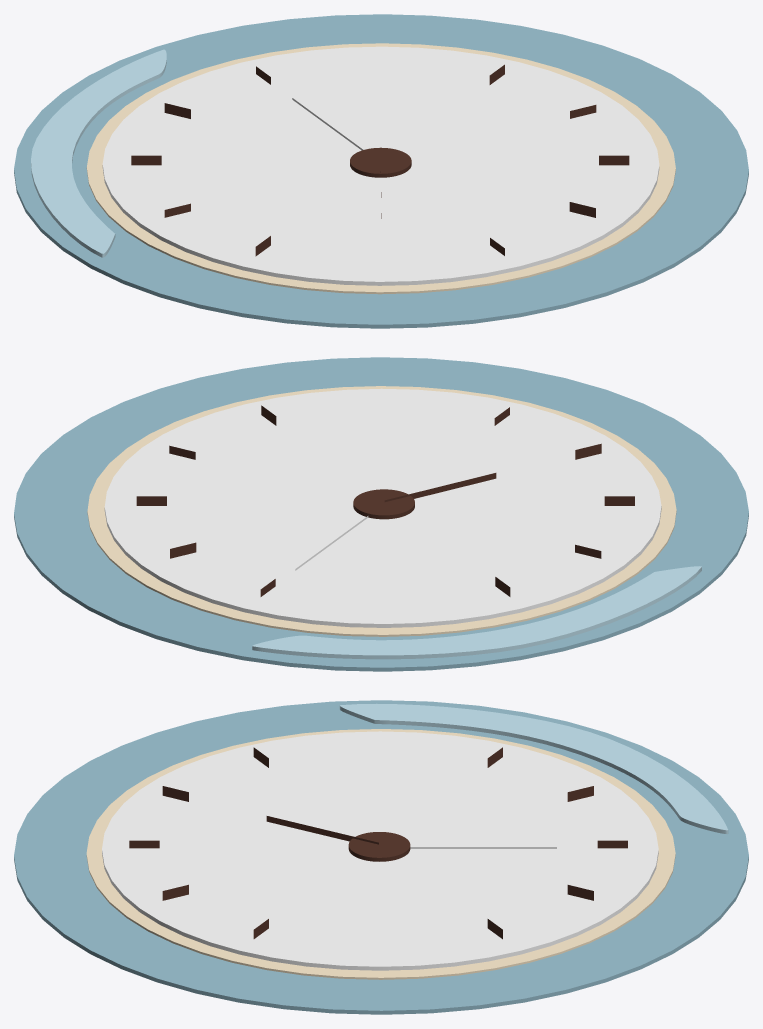
The model's file is emoji_u1f556.glb.
3 renders of one model, top to bottom at view 1: azimuth 30°, elevation 25°; view 2: azimuth 150°, elevation 25°; view 3: azimuth 270°, elevation 25°, orthographic.
Visible parts, largest first — view 1: emoji_u1f556; view 2: emoji_u1f556; view 3: emoji_u1f556.
Boxes of the visible parts, x1=… form: emoji_u1f556: x1=14, y1=14, x2=748, y2=328; emoji_u1f556: x1=14, y1=357, x2=748, y2=671; emoji_u1f556: x1=14, y1=700, x2=748, y2=1014.
Size of the model in its own units: 0.0339 by 0.0018 by 0.0339.
